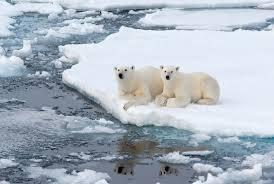bear: (156, 54, 224, 119), (104, 57, 165, 126)
